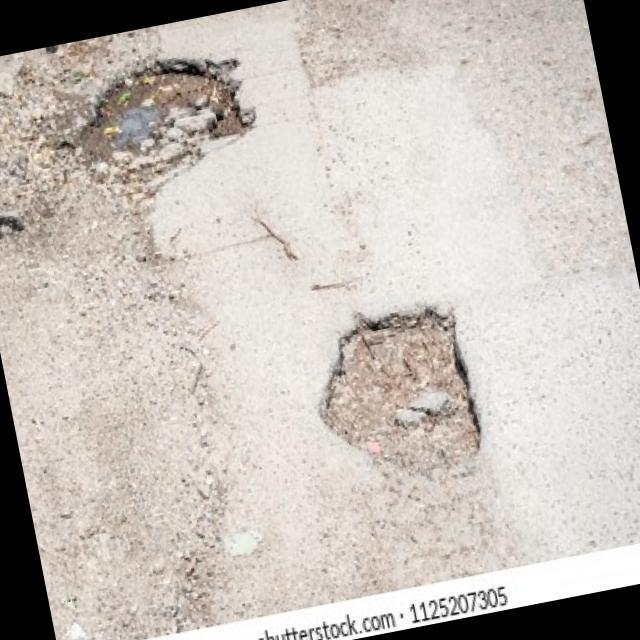Pothole: (302, 293, 494, 502), (64, 40, 270, 212)
